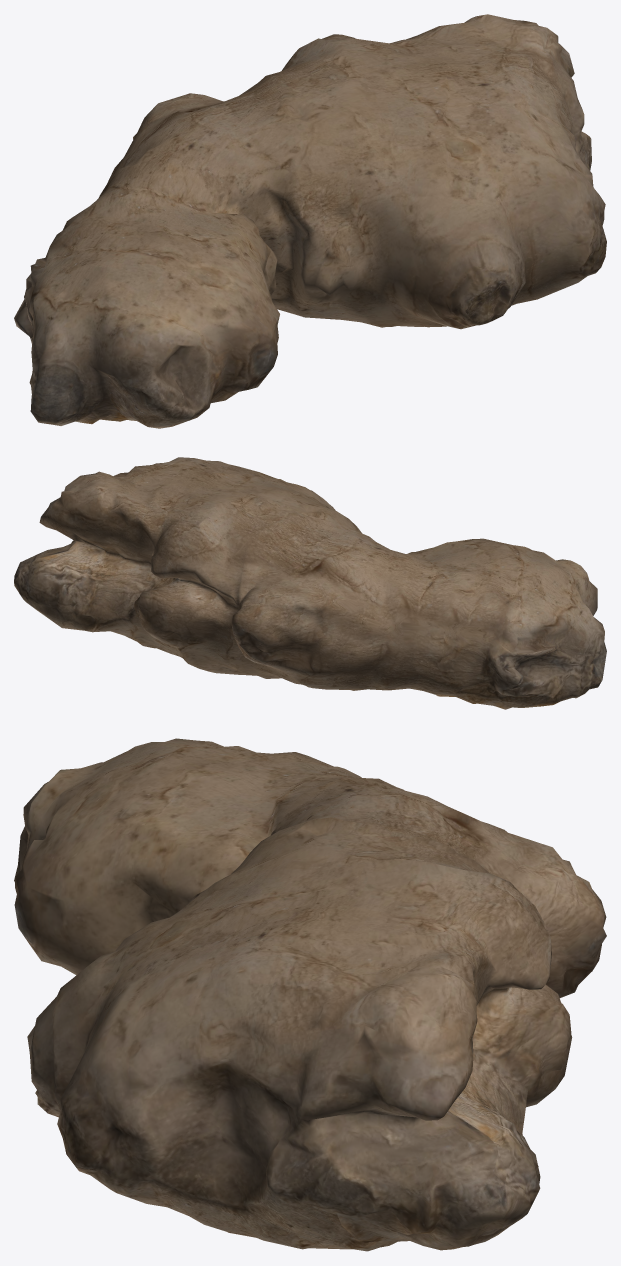
The model's file is Ginger.glb.
3 views of the same model, one above another, from view 1: azimuth 30°, elevation 25°; view 2: azimuth 150°, elevation 25°; view 3: azimuth 270°, elevation 25° (orthographic). The views are drawn at different scales.
Parts seen in each view (by area): view 1: node_Ginger_-182764; view 2: node_Ginger_-182764; view 3: node_Ginger_-182764.
Boxes of the visible parts, <box> form: node_Ginger_-182764: <box>14,14,606,428</box>; node_Ginger_-182764: <box>14,457,606,709</box>; node_Ginger_-182764: <box>14,738,606,1251</box>.
Bounding box in the file's own units: 0.0949 × 0.0339 × 0.055.
Materials: 1 (1 with a texture image).
